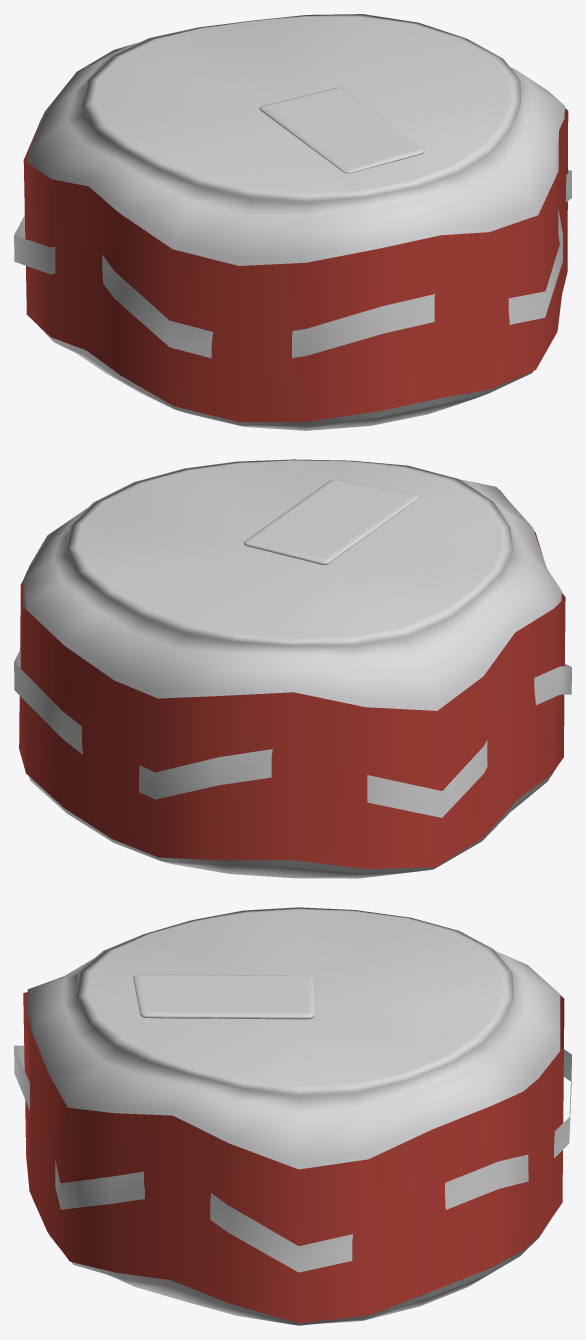
The model's file is can_flat.fbx.
The picture shows the model from 3 angles, top to bottom: view 1: azimuth 30°, elevation 25°; view 2: azimuth 150°, elevation 25°; view 3: azimuth 270°, elevation 25°; orthographic projection. The views are drawn at different scales.
Visible parts, largest first — view 1: can_flat; view 2: can_flat; view 3: can_flat.
Boxes of the visible parts, x1=… form: can_flat: x1=14, y1=14, x2=571, y2=430; can_flat: x1=14, y1=459, x2=571, y2=878; can_flat: x1=14, y1=907, x2=571, y2=1325.
Size of the model in its own units: 0.0776 by 0.0359 by 0.0783.
